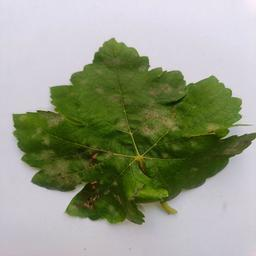Powdery-Mildew: (126, 166, 167, 203), (139, 106, 180, 141), (45, 151, 72, 181), (49, 113, 66, 130), (206, 121, 223, 137)
